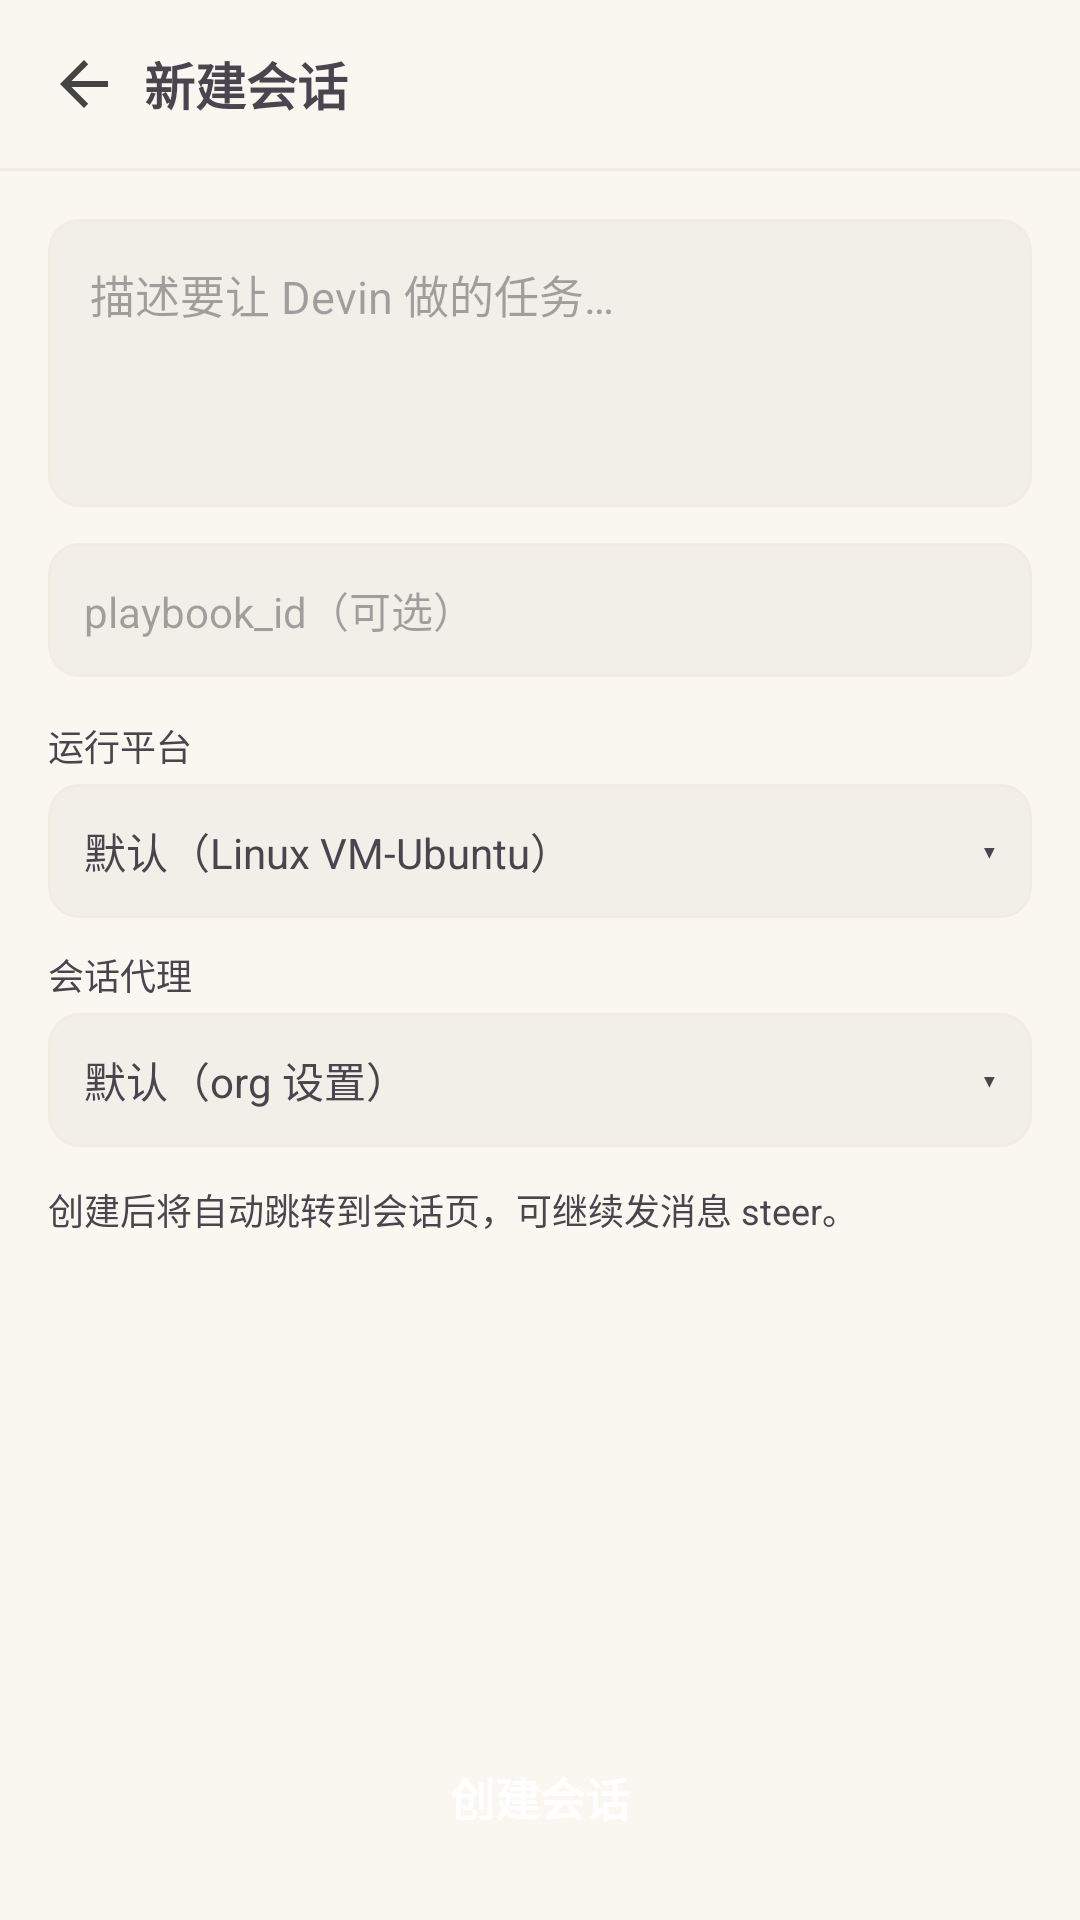

Locate icon controls on the screen. Image size 1080px x 1920px, boxes as [x1,y1,x2,y2].
返回: [60,60,108,108]
